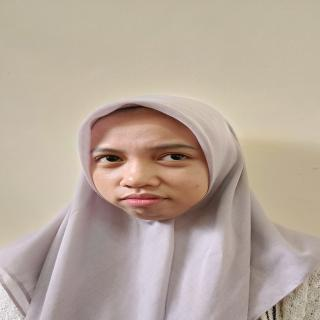Takut: (68, 100, 231, 226)
